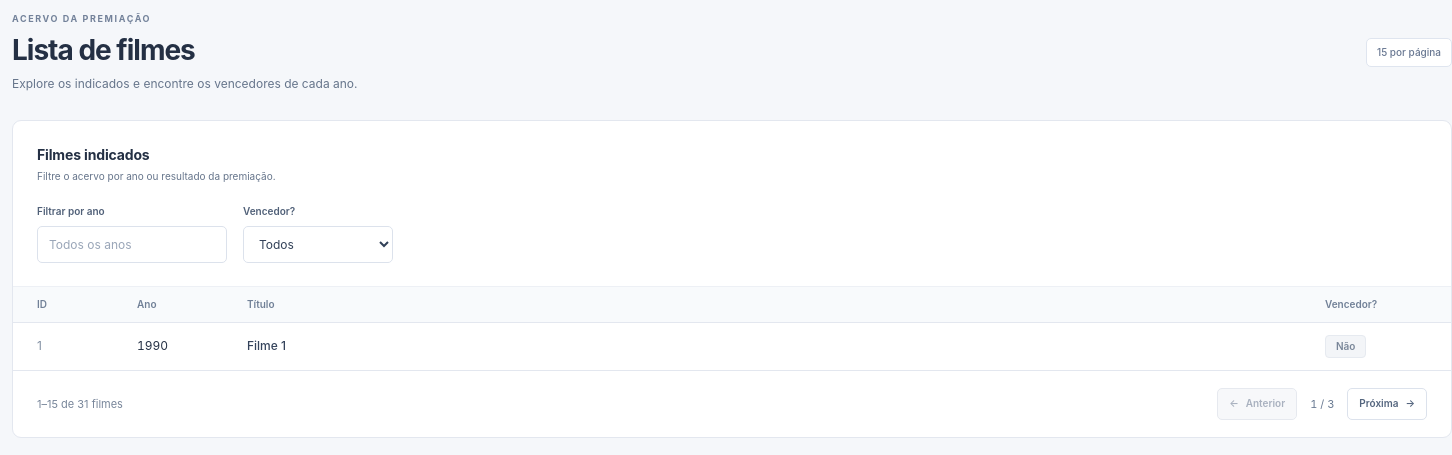
Test: lista de filmes › pagina e bloqueia voltar na primeira página
Expected: the text "Filme 1" is shown, [223,323,1301,370]
Expected: the button with aria-label "Página anterior" is disabled, [1217,388,1297,420]
Click the button with aria-label "Próxima página": (1387, 404) [1347,388,1427,420]
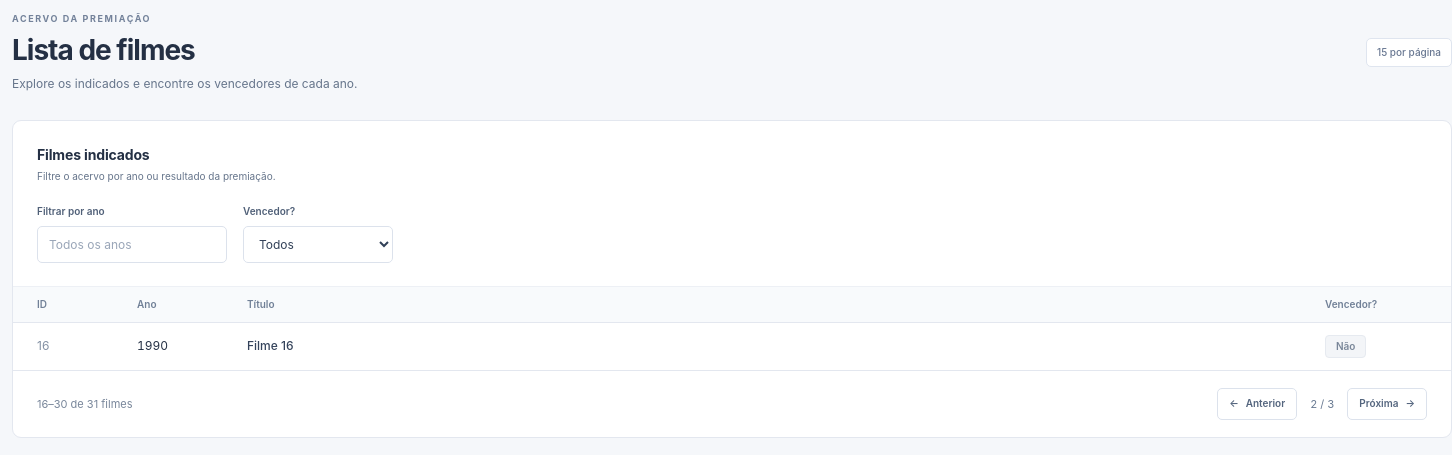
Result: the text "Filme 16" is shown at [223,323,1301,370]
Result: the text "16–30 de 31 filmes" is shown at [37,396,132,412]
Click the button with aria-label "Próxima página": (1387, 404) [1347,388,1427,420]
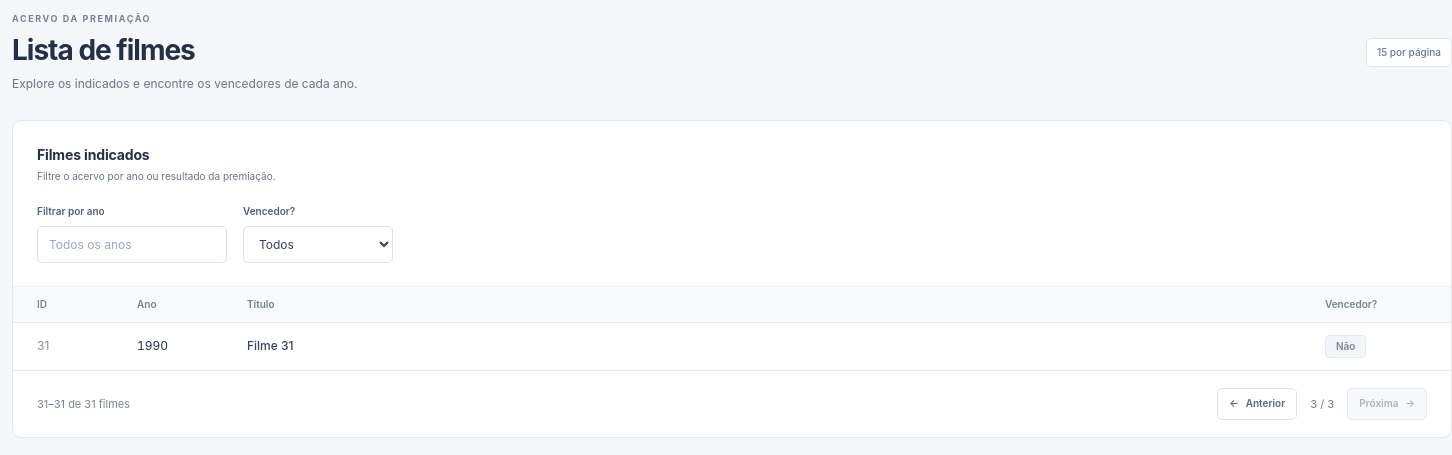
Result: the text "Filme 31" is shown at [223,323,1301,370]
Result: the button with aria-label "Próxima página" is disabled at [1347,388,1427,420]
Click the button with aria-label "Página anterior": (1257, 404) [1217,388,1297,420]
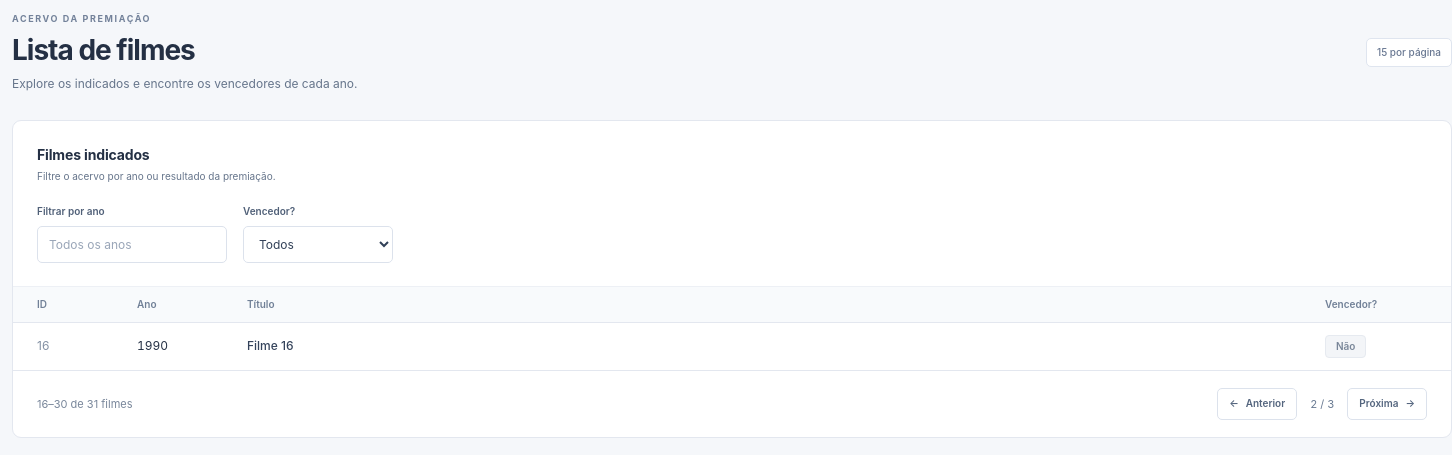
Result: the text "Filme 16" is shown at [223,323,1301,370]
